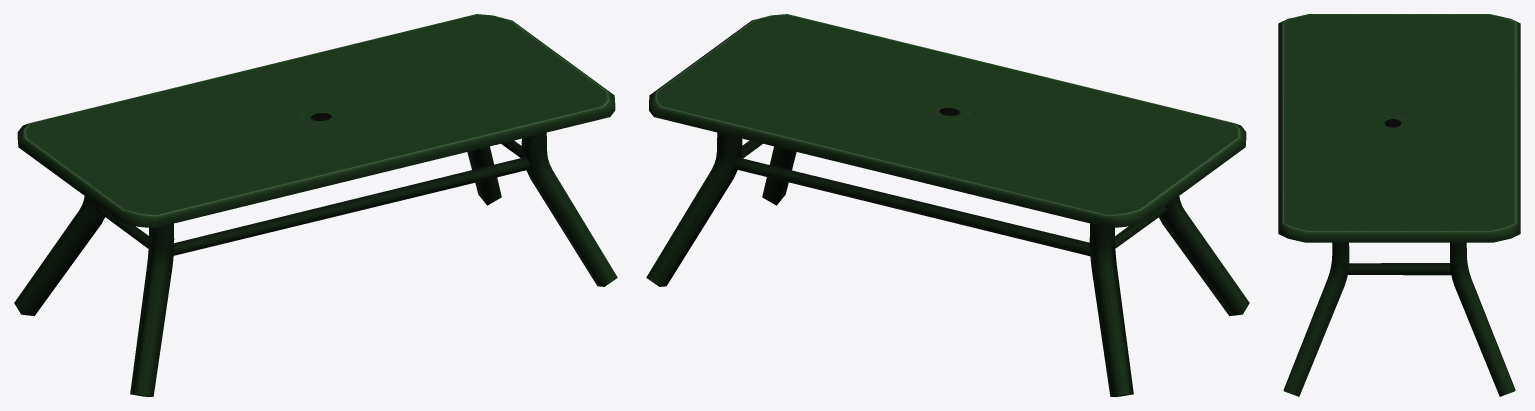
The model's file is Sun_0853_Plastic_Garden_Furniture_Rectangle_table.fbx.
The picture shows the model from 3 angles, left to right: view 1: azimuth 30°, elevation 25°; view 2: azimuth 150°, elevation 25°; view 3: azimuth 270°, elevation 25°; orthographic projection. The views are drawn at different scales.
Visible parts, largest first — view 1: Sun_0853_Plastic_Garden_Furniture_Rectangle_table; view 2: Sun_0853_Plastic_Garden_Furniture_Rectangle_table; view 3: Sun_0853_Plastic_Garden_Furniture_Rectangle_table.
Boxes of the visible parts, x1,y1,x2,y2 form: Sun_0853_Plastic_Garden_Furniture_Rectangle_table: (14,14,617,396); Sun_0853_Plastic_Garden_Furniture_Rectangle_table: (646,14,1249,396); Sun_0853_Plastic_Garden_Furniture_Rectangle_table: (1278,14,1520,396).
Bounding box in the file's own units: 217 × 78.12 × 100.
